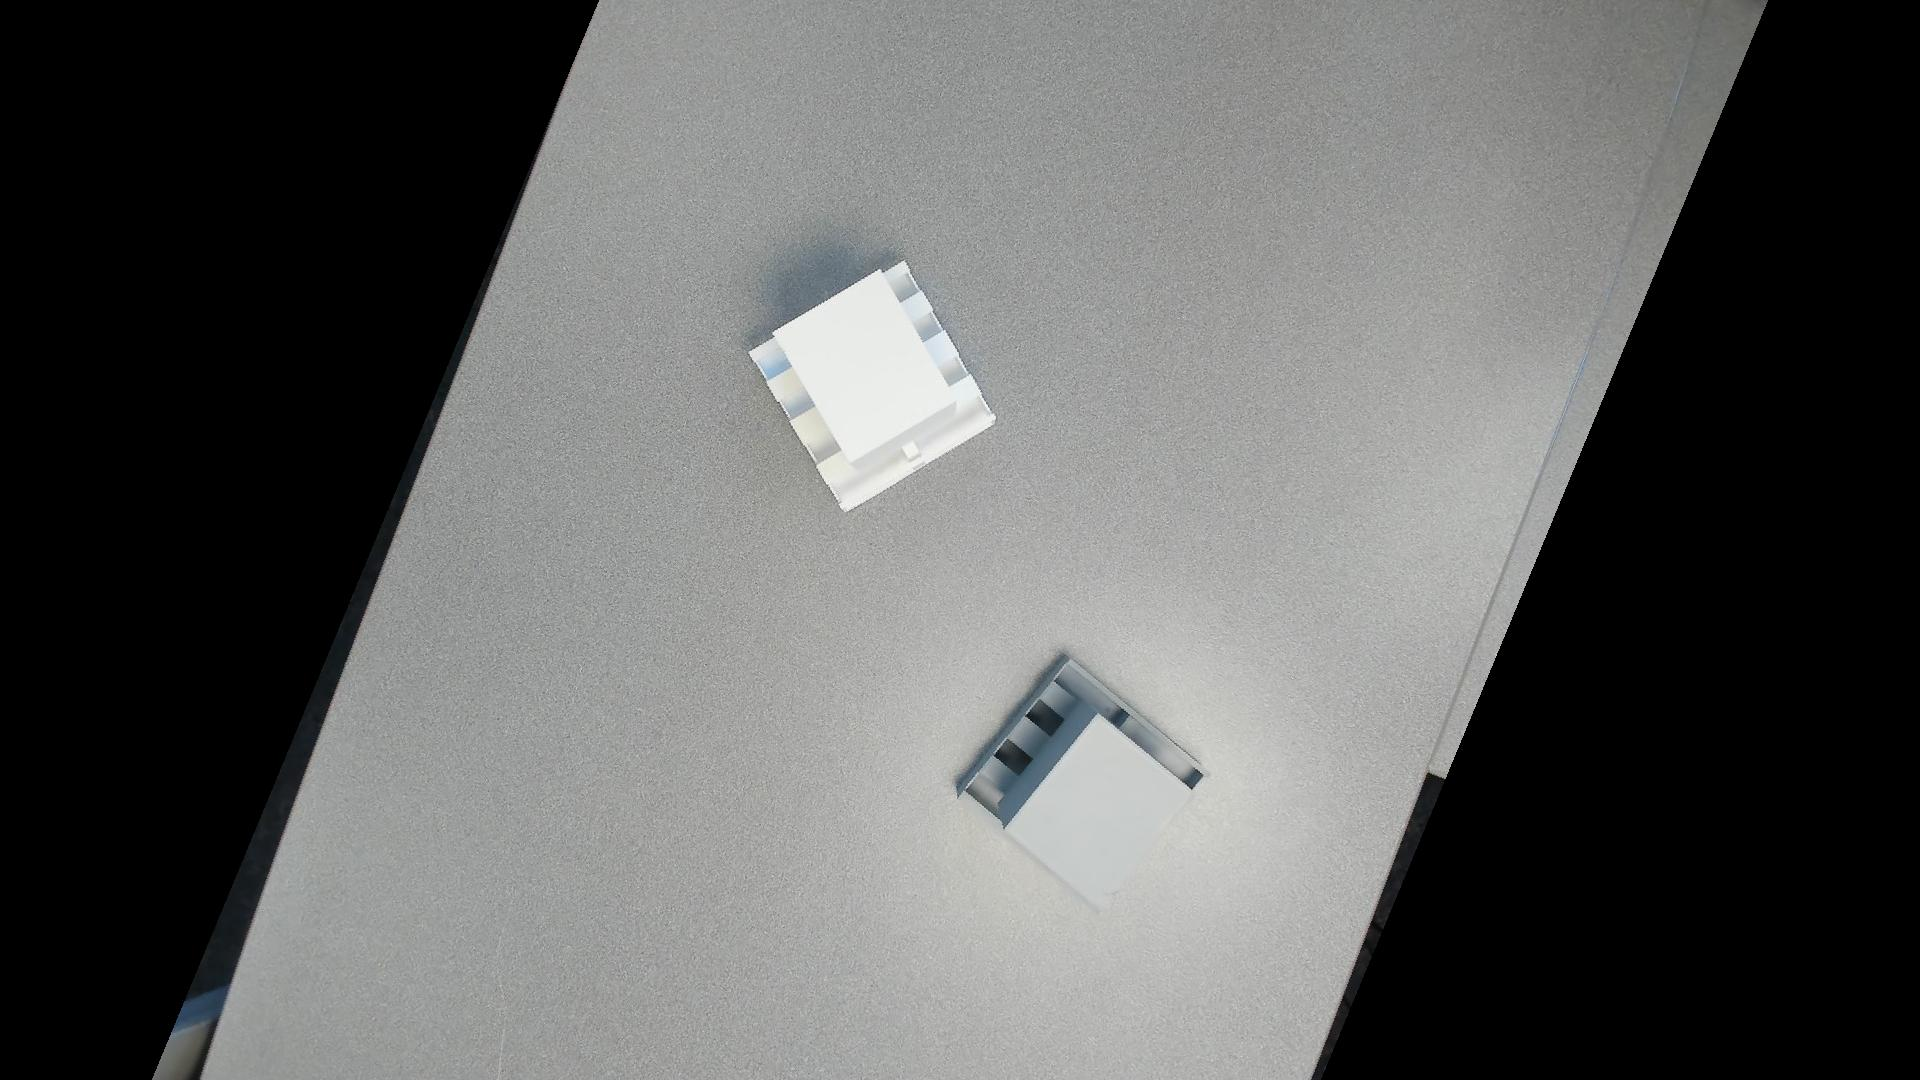grey pallet: (945, 640, 1218, 924)
white pallet: (740, 258, 1006, 525)
